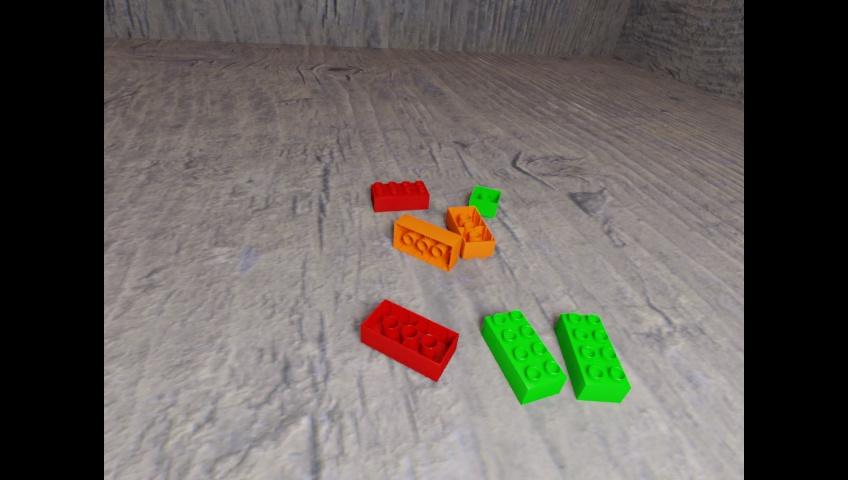2x2_green: (469, 185, 500, 218)
4x2_green: (480, 309, 566, 404), (554, 312, 630, 402)
4x2_orange: (393, 213, 461, 272), (445, 205, 495, 259)
4x2_red: (360, 298, 458, 382), (370, 179, 429, 212)
